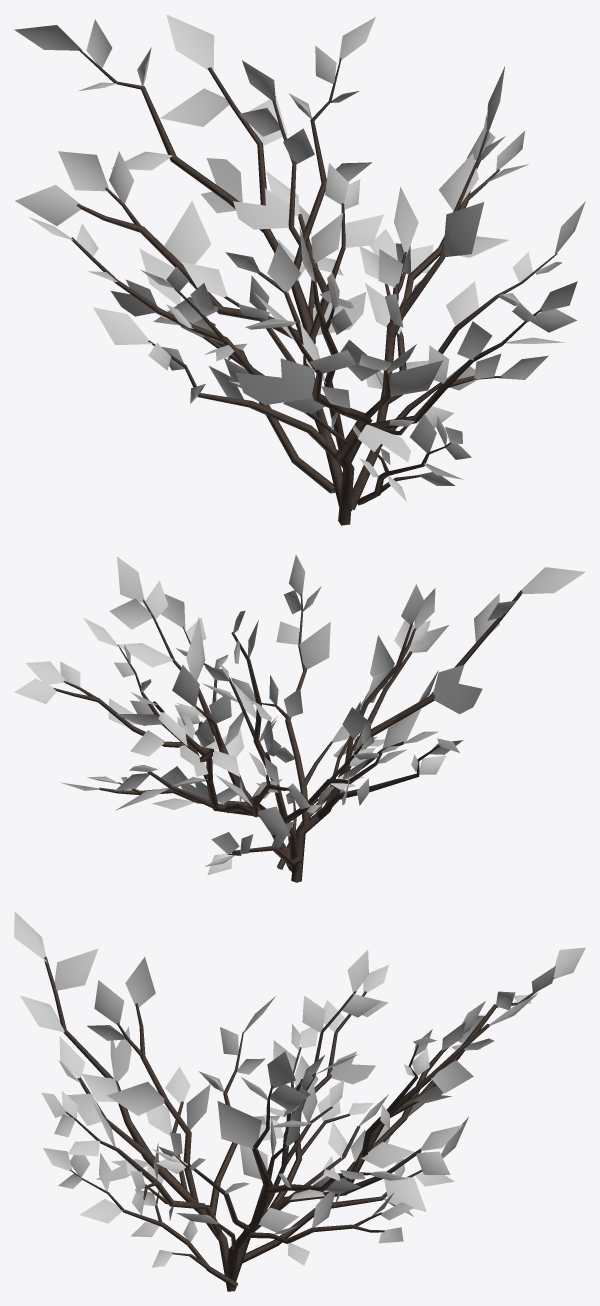
Rendered from SM_FW01_TreeSapling_03.fbx.
3 views of the same model, one above another, from view 1: azimuth 30°, elevation 25°; view 2: azimuth 150°, elevation 25°; view 3: azimuth 270°, elevation 25° (orthographic). The views are drawn at different scales.
Visible parts, largest first — view 1: SM_FW01_TreeSapling_03_LOD0; view 2: SM_FW01_TreeSapling_03_LOD0; view 3: SM_FW01_TreeSapling_03_LOD0.
Boxes of the visible parts, x1=… form: SM_FW01_TreeSapling_03_LOD0: x1=14, y1=14, x2=585, y2=525; SM_FW01_TreeSapling_03_LOD0: x1=14, y1=555, x2=585, y2=882; SM_FW01_TreeSapling_03_LOD0: x1=14, y1=911, x2=585, y2=1291.
Size of what is drawn, in the model's own units: 1.23 by 0.9708 by 1.51.
